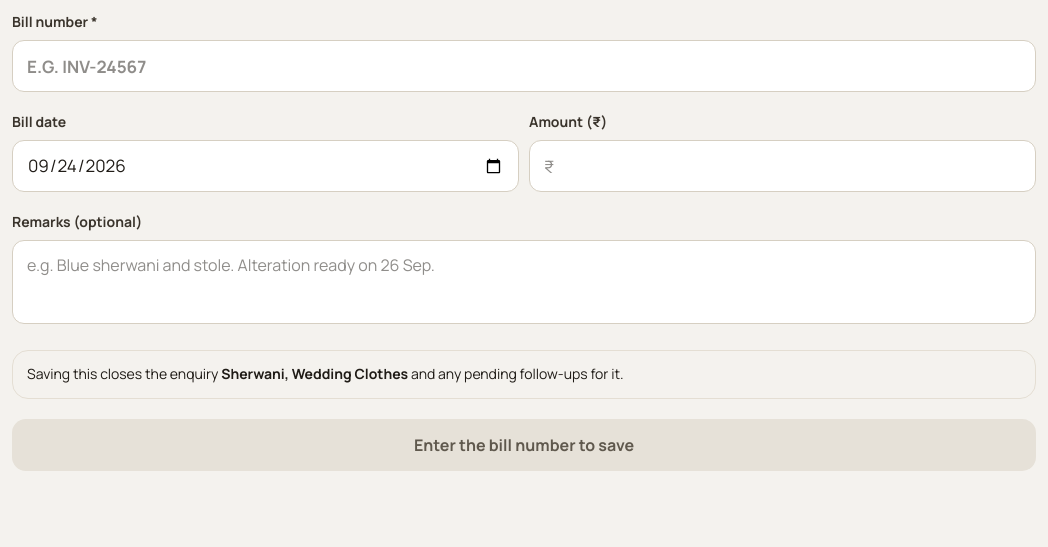
Test: SaleForm › follows the amount setting in its label and before saving
The width and height of the screenshot is (1048, 547).
expect the field labelled "Amount (₹)" is shown: met, box [529, 140, 1036, 192]
Type "INV-1" into the field labelled "Bill number *" at x=524, y=66, box [12, 40, 1036, 92]
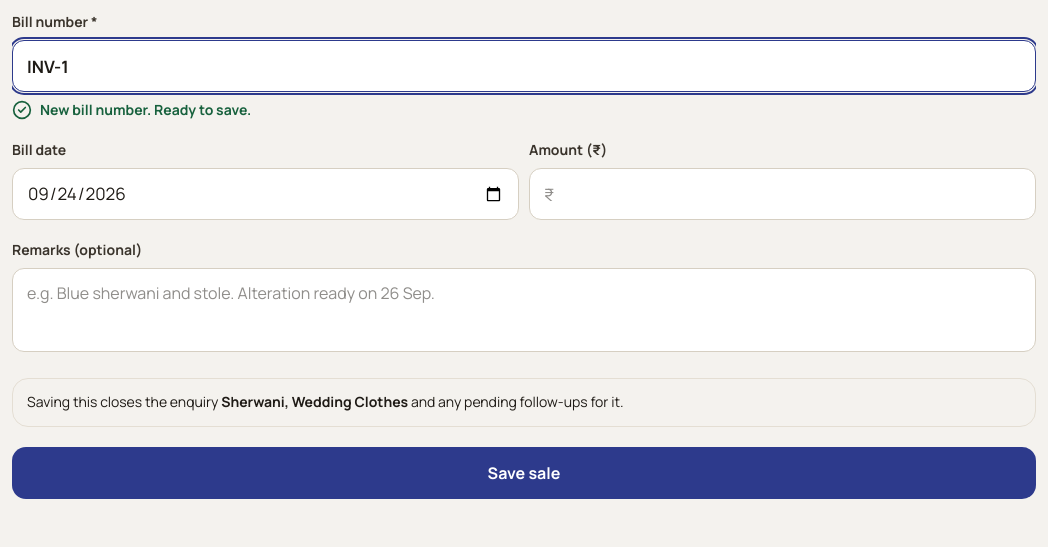
expect the text "New bill number. Ready to save." is shown: met, box [12, 100, 251, 120]
Click the button "Save sale" at x=524, y=473, box [12, 447, 1036, 499]
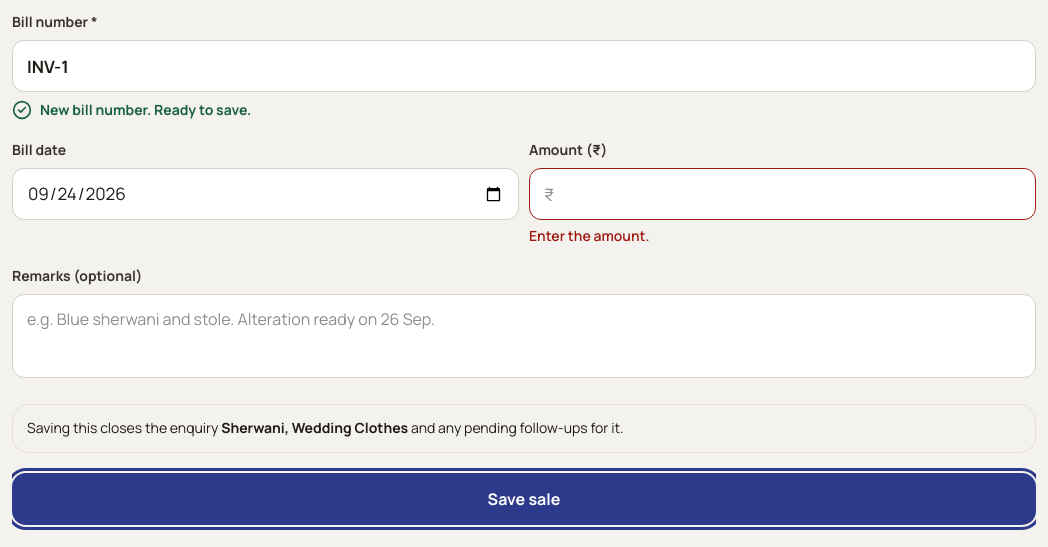
expect the text "Enter the amount." is shown: met, box [529, 226, 650, 245]
